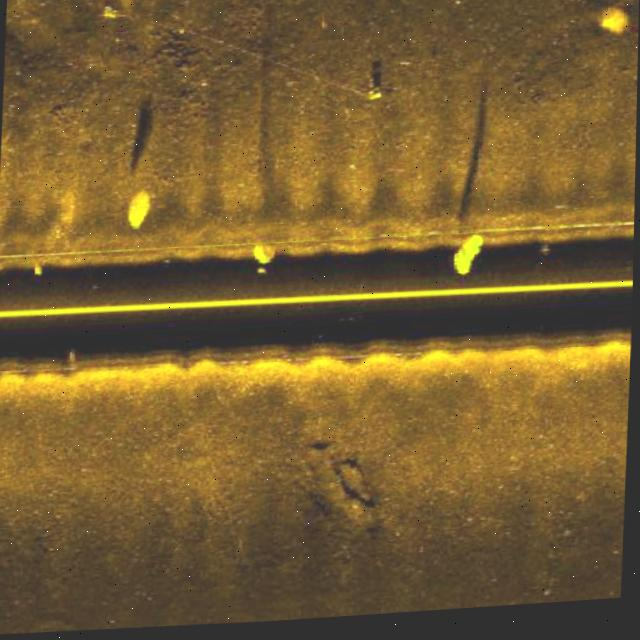mine: (370, 85, 388, 112), (99, 0, 117, 25)
